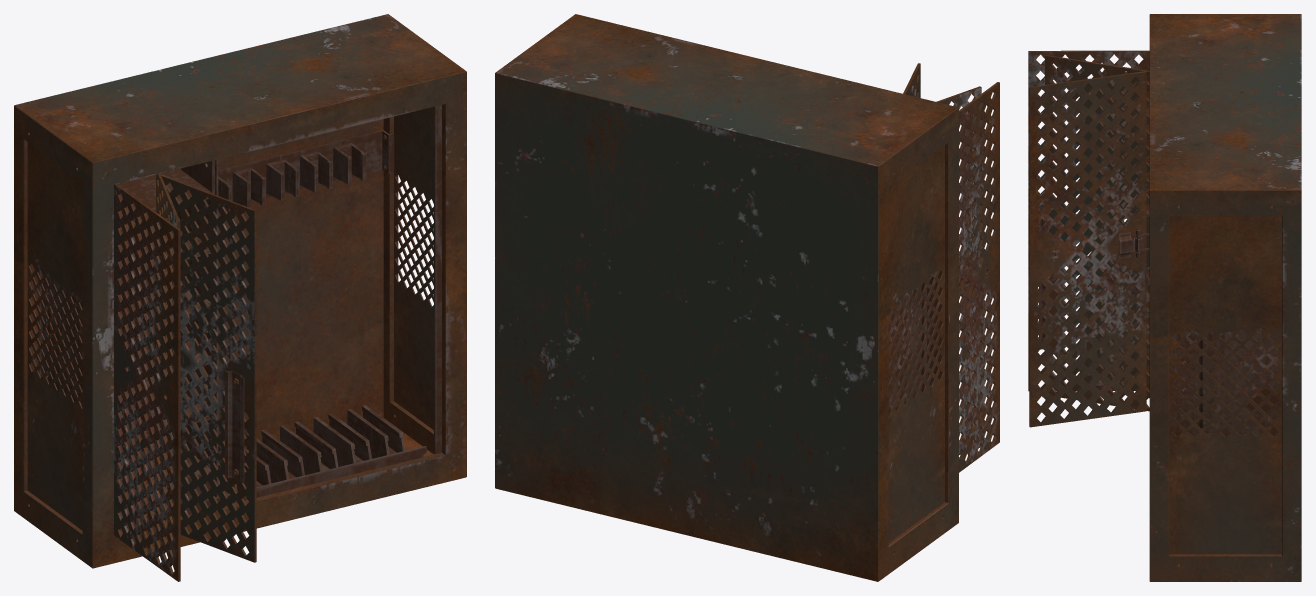
File: txtxtxtxtxt.fbx
3 renders of one model, left to right at view 1: azimuth 30°, elevation 25°; view 2: azimuth 150°, elevation 25°; view 3: azimuth 270°, elevation 25°, orthographic. The views are drawn at different scales.
Parts seen in each view (by area): view 1: Cube.089, Cube.090, Cube.100, Cube.099, Cube.093, Cube.091, Cube.094, Cube.092, Plane.015, Cube.095, Cube.119; view 2: Cube.089, Cube.090, Cube.099, Cube.092, Cube.119; view 3: Cube.089, Cube.090, Cube.100, Cube.119, Cube.099, Cube.092, Plane.016.
Boxes of the visible parts, <box> form: Cube.089: <box>14,14,466,568</box>; Cube.090: <box>27,107,434,530</box>; Cube.100: <box>160,174,256,562</box>; Cube.099: <box>114,184,181,581</box>; Cube.093: <box>218,405,405,494</box>; Cube.091: <box>120,105,441,530</box>; Cube.094: <box>218,143,366,212</box>; Cube.092: <box>38,159,218,496</box>; Plane.015: <box>117,169,214,517</box>; Cube.095: <box>218,130,394,201</box>; Cube.119: <box>152,173,180,555</box>; Cube.089: <box>495,14,958,581</box>; Cube.090: <box>888,145,944,542</box>; Cube.099: <box>959,82,999,472</box>; Cube.092: <box>888,282,926,416</box>; Cube.119: <box>936,86,981,454</box>; Cube.089: <box>1149,14,1301,581</box>; Cube.090: <box>1169,216,1281,554</box>; Cube.100: <box>1029,71,1146,427</box>; Cube.119: <box>1045,55,1149,411</box>; Cube.099: <box>1028,50,1149,391</box>; Cube.092: <box>1172,332,1279,436</box>; Plane.016: <box>1195,332,1224,436</box>.
Size of the model in its own units: 615 by 637 by 403.
1 material, 1 textured.
